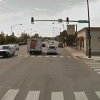crosswalk: (0, 88, 99, 100), (84, 60, 100, 74), (16, 55, 71, 57)
